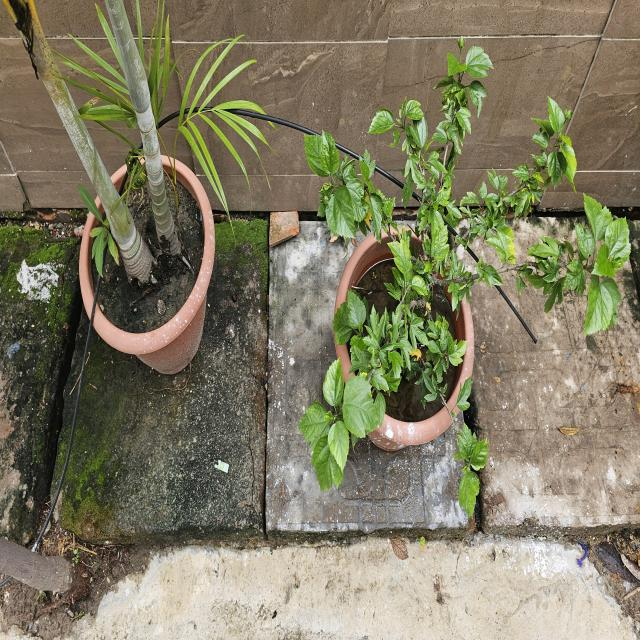artificial_container: (331, 215, 478, 456), (77, 151, 218, 379)
